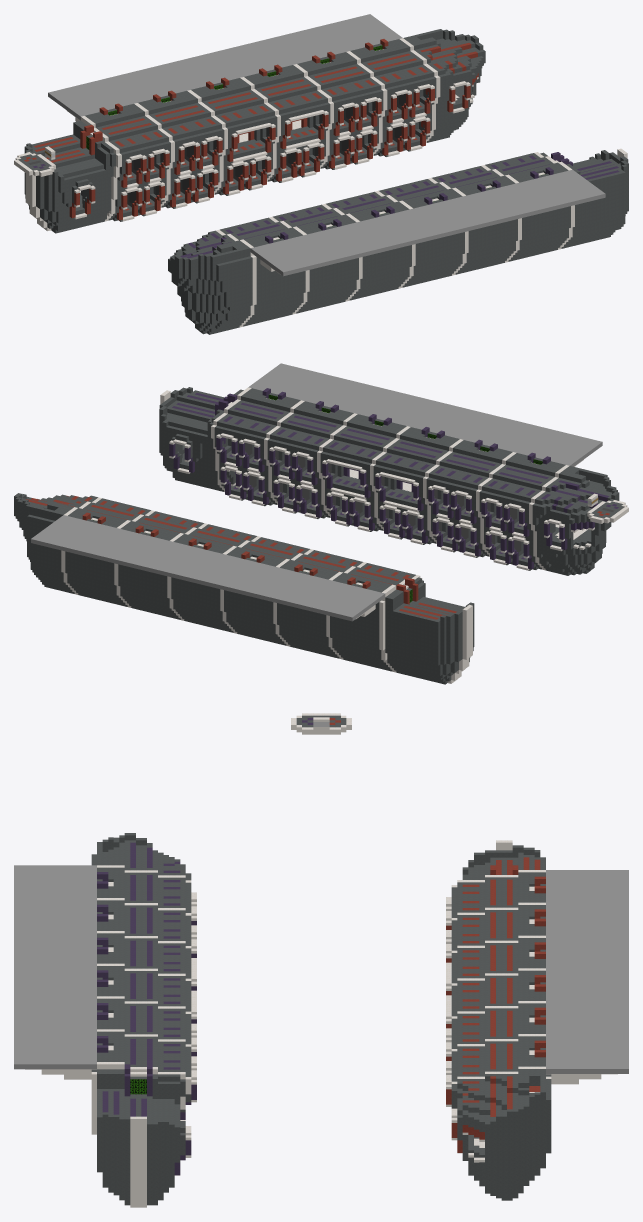
File: minecraft.obj
3 views of the same model, one above another, from view 1: azimuth 30°, elevation 25°; view 2: azimuth 150°, elevation 25°; view 3: azimuth 270°, elevation 25° (orthographic). The views are drawn at different scales.
Bounding box in the file's own units: 1400 × 375 × 1110.
